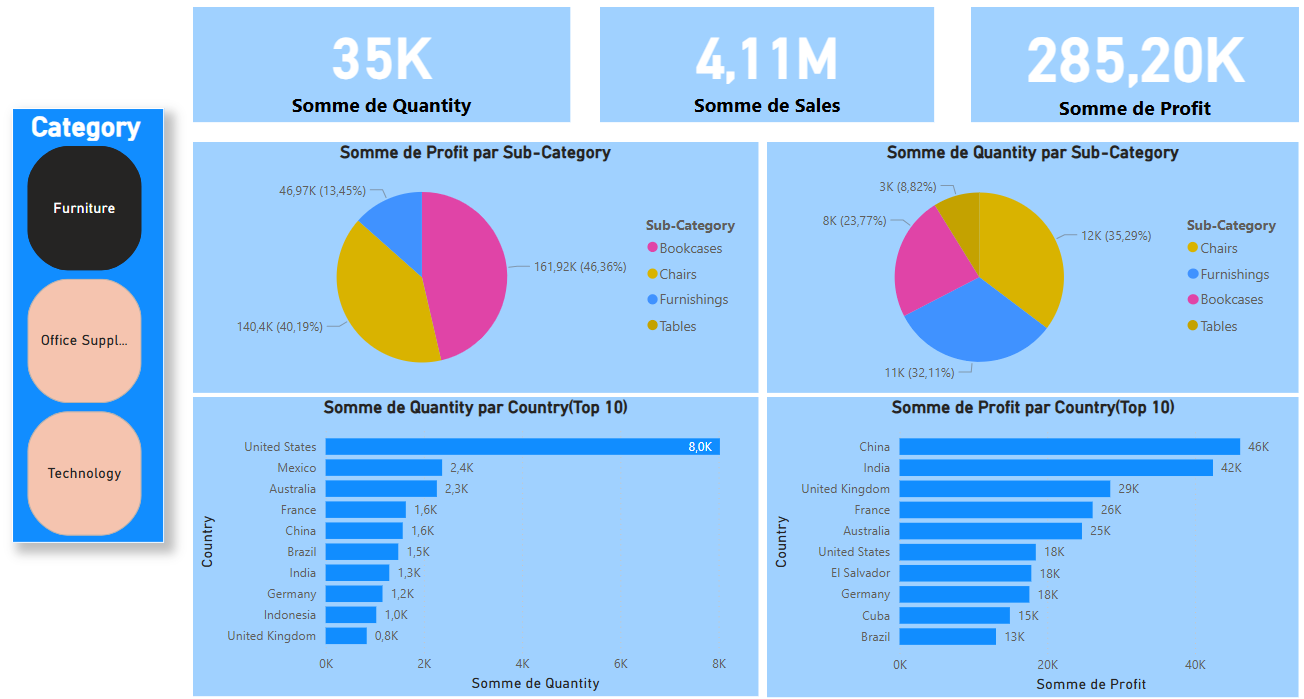

This screenshot's page, from the dashboard's own definition file:
{"tool":"powerbi","page":{"name":"Page 1","canvas":[1280,720],"ordinal":0},"visuals":[{"type":"clusteredBarChart","title":"Somme de Quantity par Country(Top 10)","fields":{"Category":["Global_Superstore2.Country"],"Y":["Sum(Global_Superstore2.Quantity)"]},"box":[192.6,420.2,549.5,290.8],"z":0},{"type":"advancedSlicerVisual","fields":{"Values":["Global_Superstore2.Category"]},"box":[16.5,139.1,147.8,423.1],"z":1000},{"type":"clusteredBarChart","title":"Somme de Profit par Country(Top 10)","fields":{"Category":["Global_Superstore2.Country"],"Y":["Sum(Global_Superstore2.Profit)"]},"box":[750.9,420.2,517.4,291.8],"z":2000},{"type":"pieChart","fields":{"Category":["Global_Superstore2.Sub-Category"],"Y":["Sum(Global_Superstore2.Profit)"]},"box":[192.6,172.2,549.5,244.1],"z":3000},{"type":"pieChart","fields":{"Category":["Global_Superstore2.Sub-Category"],"Y":["Sum(Global_Superstore2.Quantity)"]},"box":[750.9,172.2,517.4,244.1],"z":4000},{"type":"card","fields":{"Values":["Sum(Global_Superstore2.Quantity)"]},"box":[192.6,40.9,366.7,111.9],"z":5000},{"type":"card","fields":{"Values":["Sum(Global_Superstore2.Sales)"]},"box":[588.4,40.9,324.9,111.9],"z":6000},{"type":"card","fields":{"Values":["Sum(Global_Superstore2.Profit)"]},"box":[949.3,40.9,319,111.9],"z":7000}]}

Visuals, with their boxes in screenshot pixels (x1, y1, x2, y2):
"Somme de Quantity par Country(Top 10)" clusteredBarChart: 188:395:754:695
advancedSlicerVisual - Global_Superstore2.Category: 7:106:159:542
"Somme de Profit par Country(Top 10)" clusteredBarChart: 763:395:1296:696
pieChart - Global_Superstore2.Sub-Category x Sum(Global_Superstore2.Profit): 188:140:754:391
pieChart - Global_Superstore2.Sub-Category x Sum(Global_Superstore2.Quantity): 763:140:1296:391
card - Sum(Global_Superstore2.Quantity): 188:5:566:120
card - Sum(Global_Superstore2.Sales): 596:5:930:120
card - Sum(Global_Superstore2.Profit): 967:5:1296:120
